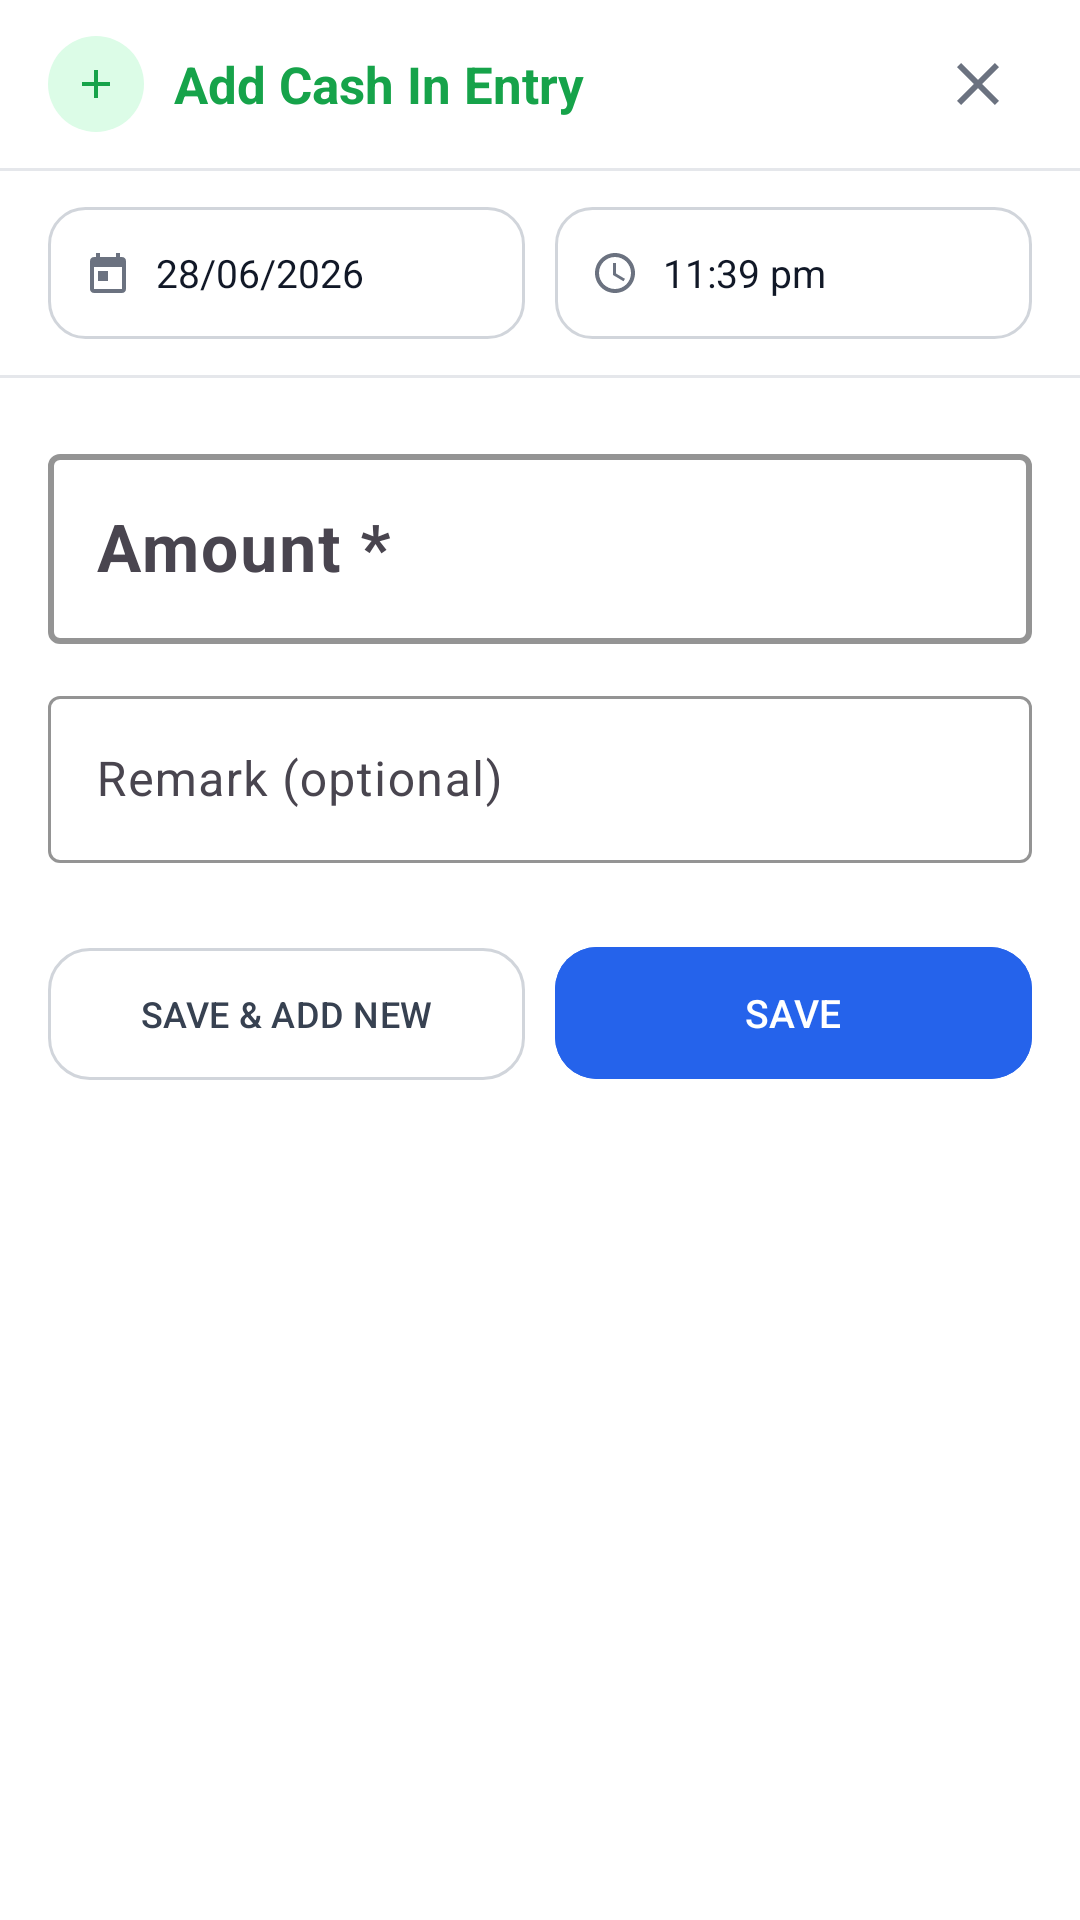

Icons on this 1080px x 1920px Android screen, each with its box as (x1, y1, x2, y2):
Close: (957, 63, 999, 105)
Date: (90, 253, 126, 293)
plus: (82, 70, 110, 98)
Time: (595, 253, 635, 293)
